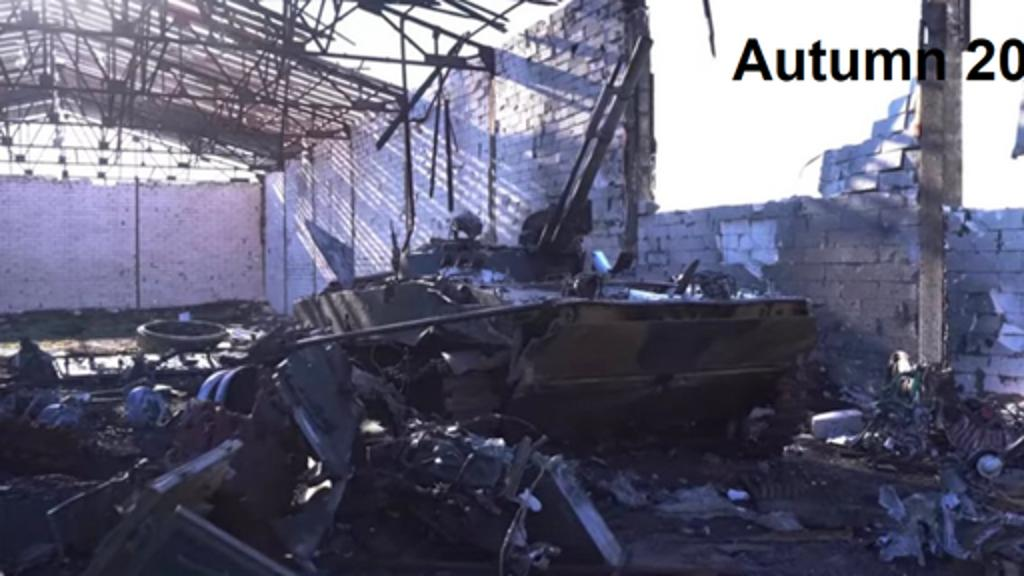APC-IFV: (274, 30, 826, 446)
